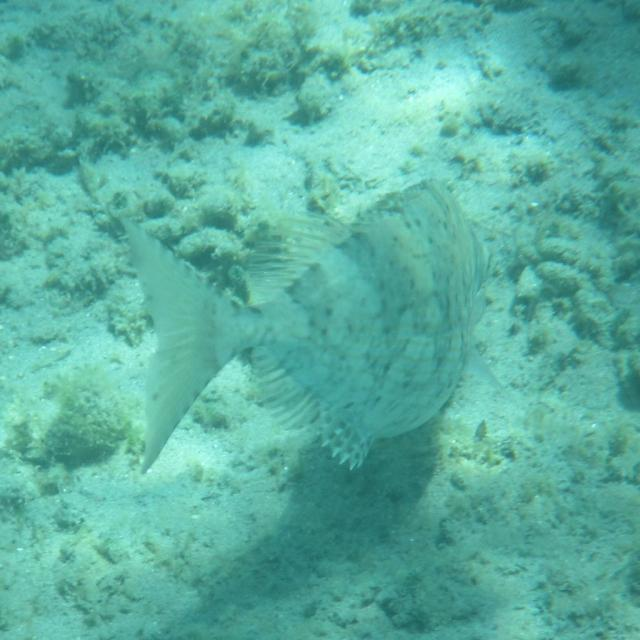Sokar Baligi: (98, 162, 504, 496)
